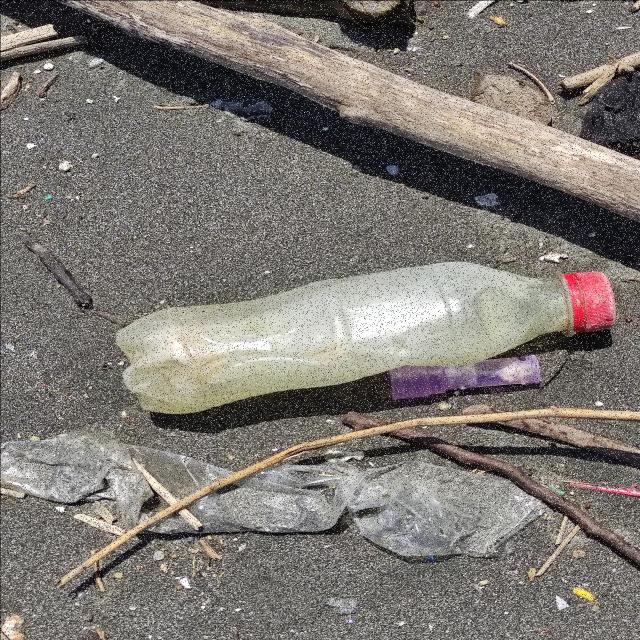plastic_waste: (115, 261, 620, 417)
